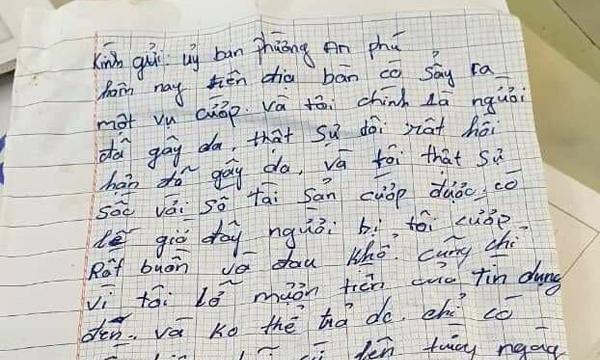text: (83, 252, 562, 314), (91, 194, 513, 260), (96, 73, 528, 137), (85, 224, 530, 282), (96, 48, 496, 111), (96, 111, 503, 171), (92, 166, 524, 222), (77, 290, 524, 344), (97, 143, 505, 196), (104, 321, 567, 358), (92, 27, 407, 81)
